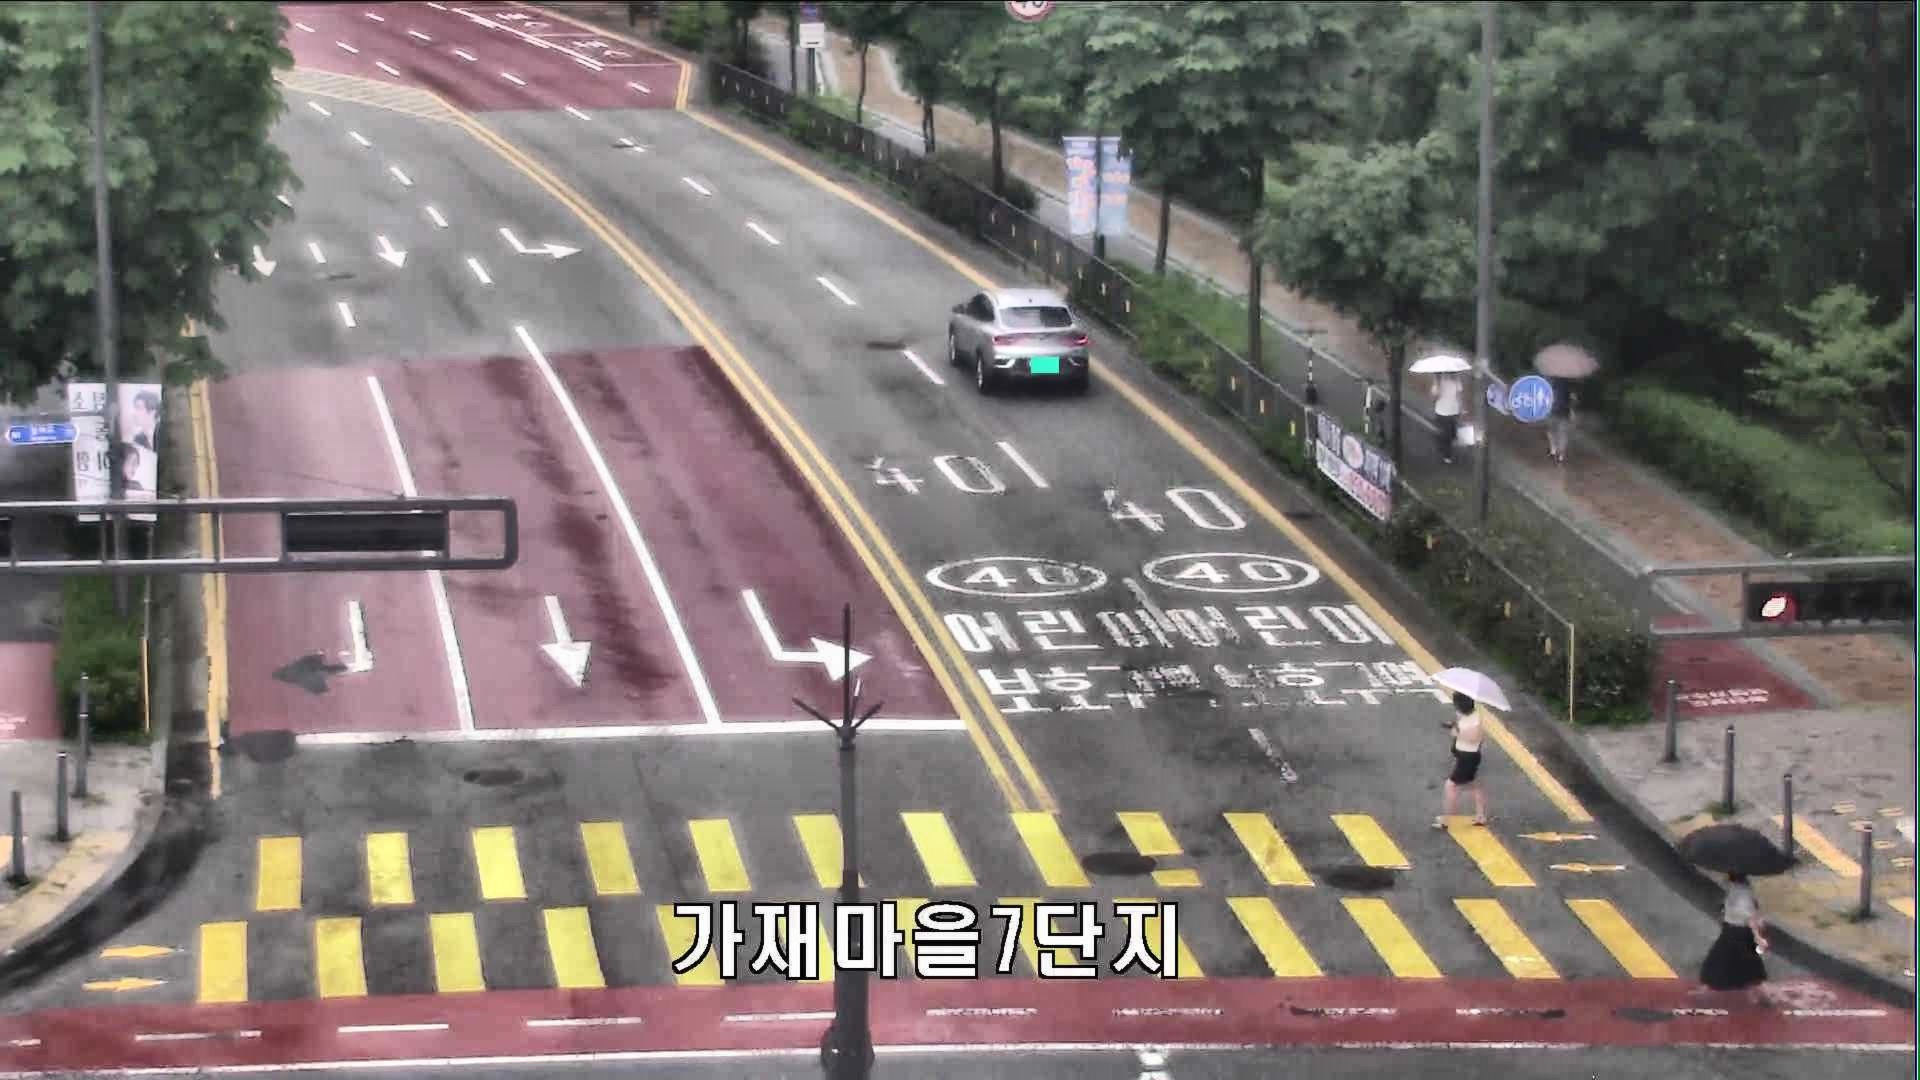um_crosswalk: (1675, 825, 1800, 1010), (1429, 666, 1509, 822)
um_sidewalk: (1534, 345, 1600, 464), (1407, 355, 1472, 463)
